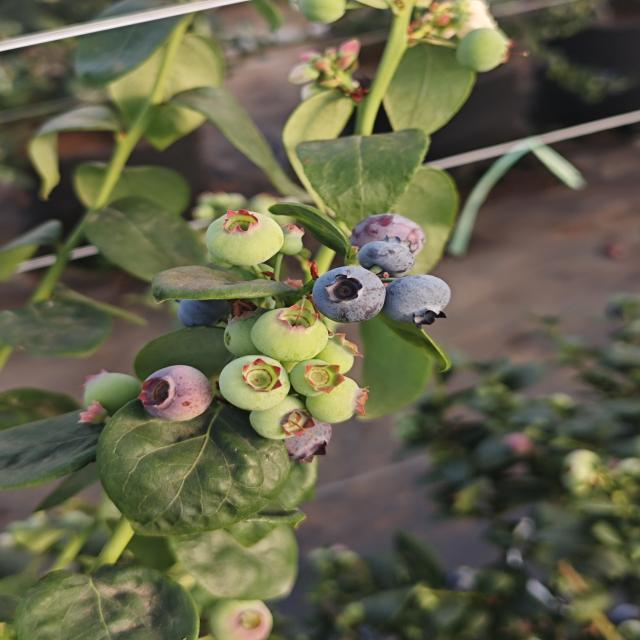ripe: (352, 207, 428, 277), (308, 264, 388, 325), (380, 272, 453, 330), (174, 284, 246, 336)
